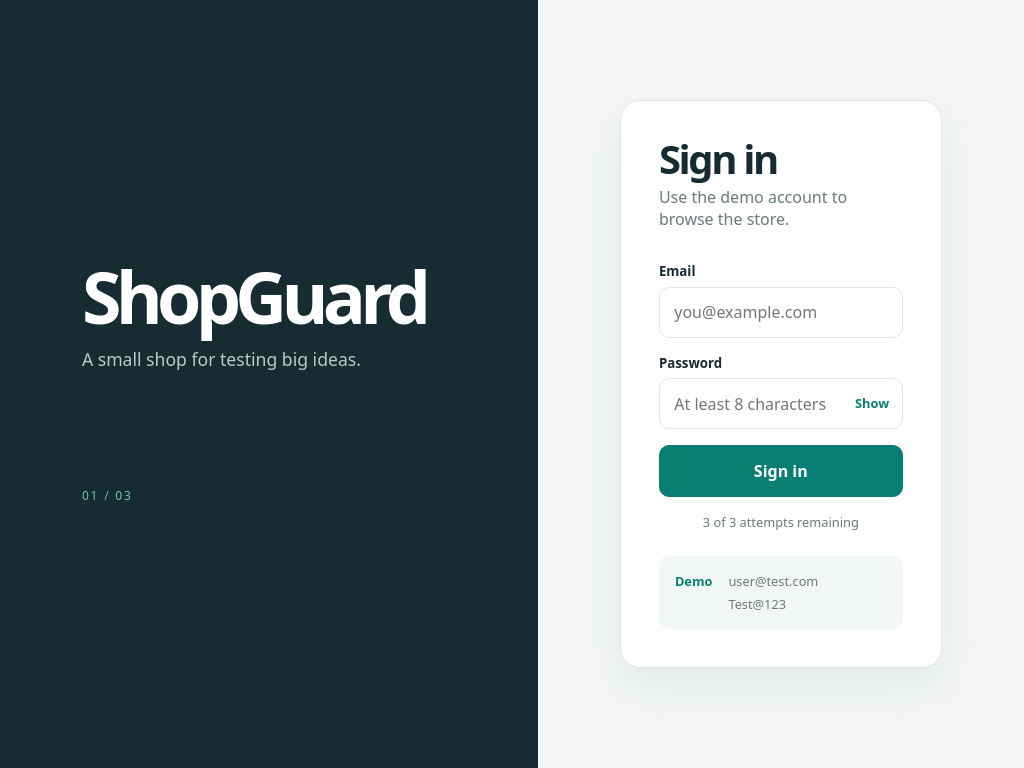
Scenario: Cart Tests › should display empty cart message
Step 1. Type "user@test.com" into the field with test id "email-input" → (781, 313), box [659,287,903,338]
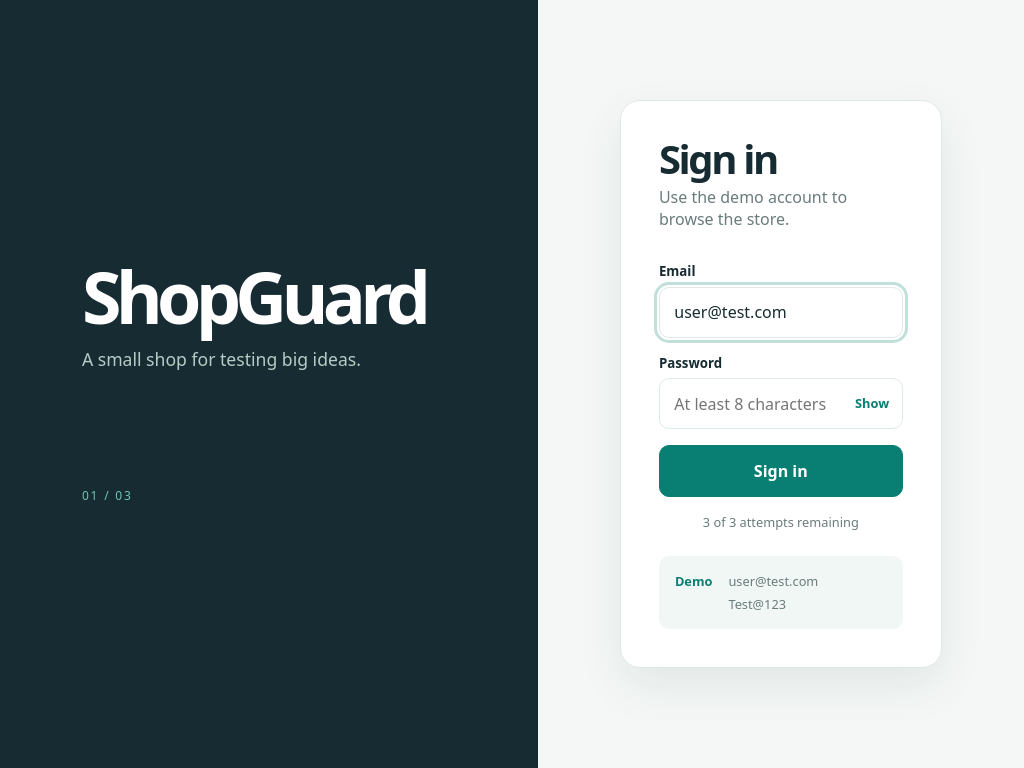
Step 2. Type "Test@123" into the password field with test id "password-input" → (781, 404), box [659,378,903,429]
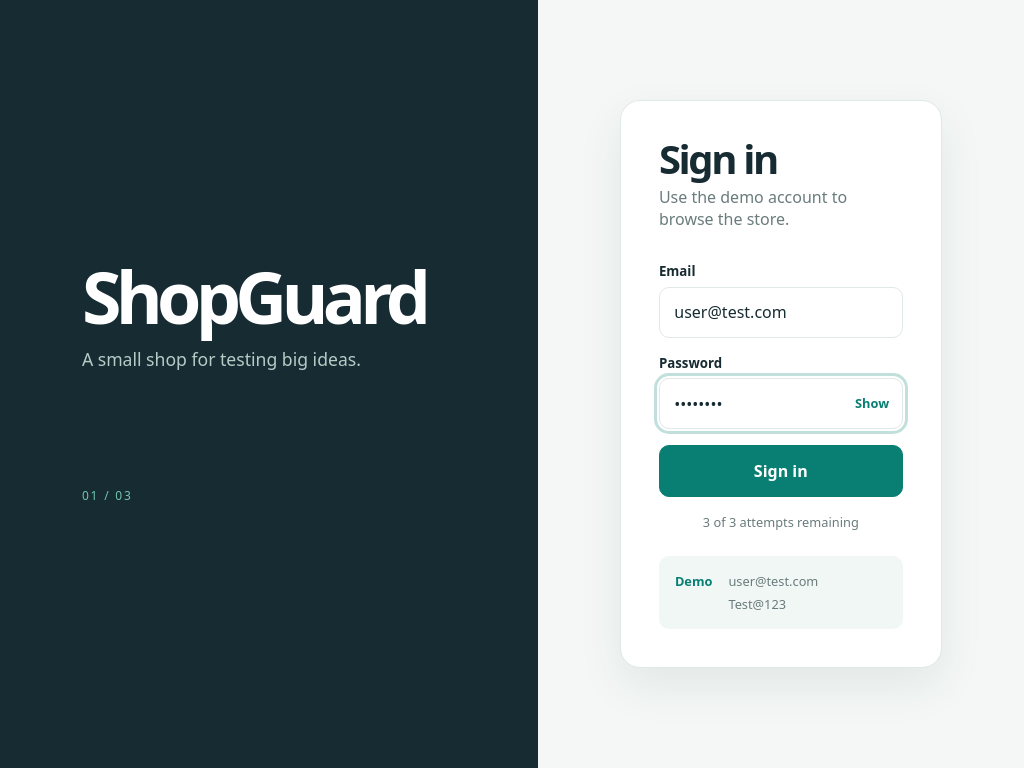
Step 3. Click the button with test id "login-button" → click(781, 471), box [659,445,903,496]
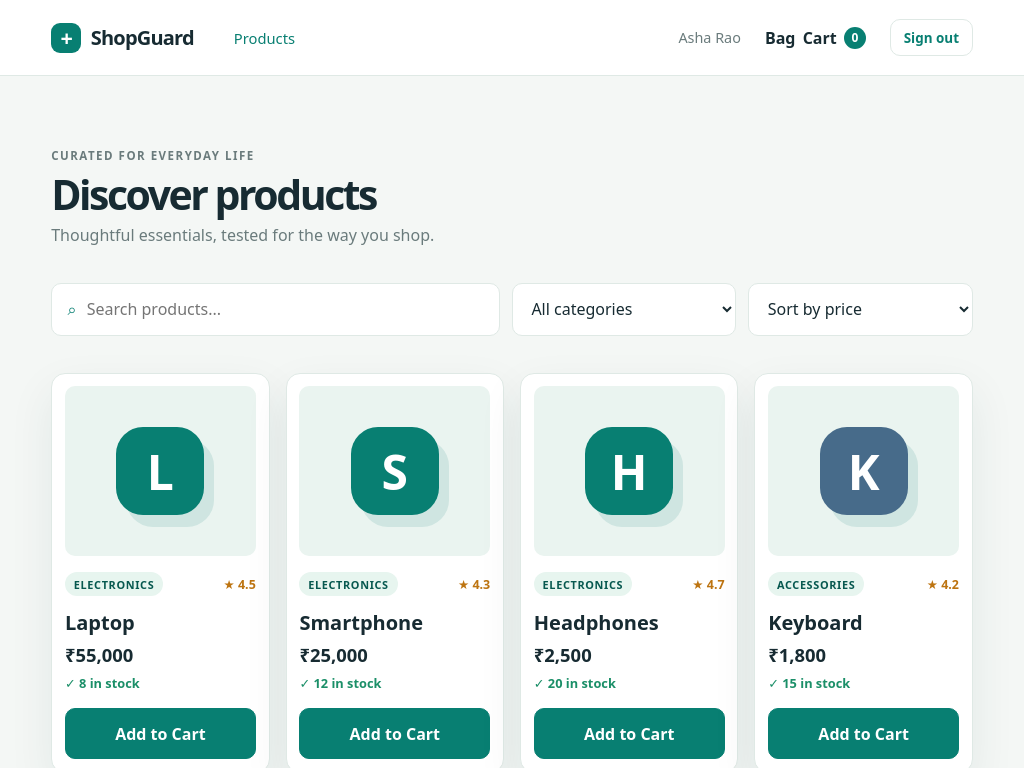
Step 4. Reload the page
Step 5. Click the button with test id "cart-button" → click(816, 38), box [757,19,874,57]
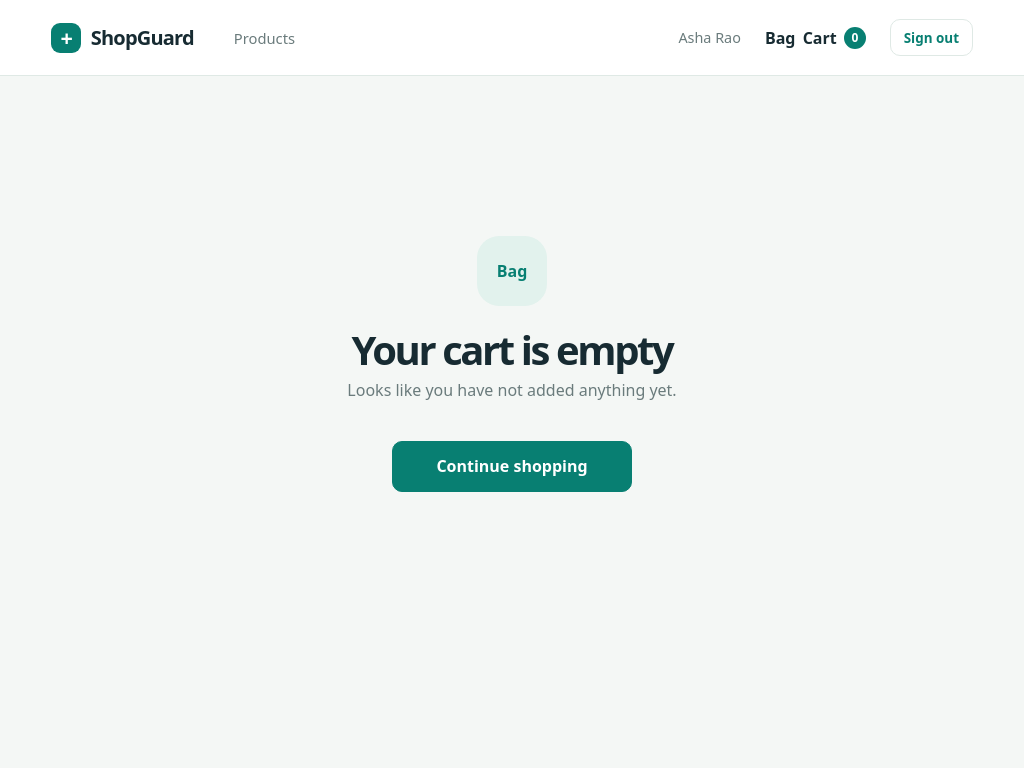
Expected: the element with test id "empty-cart" is shown, [347,236,676,492]
Expected: the heading with test id "empty-cart" reads "Your cart is empty", [352,322,673,377]
